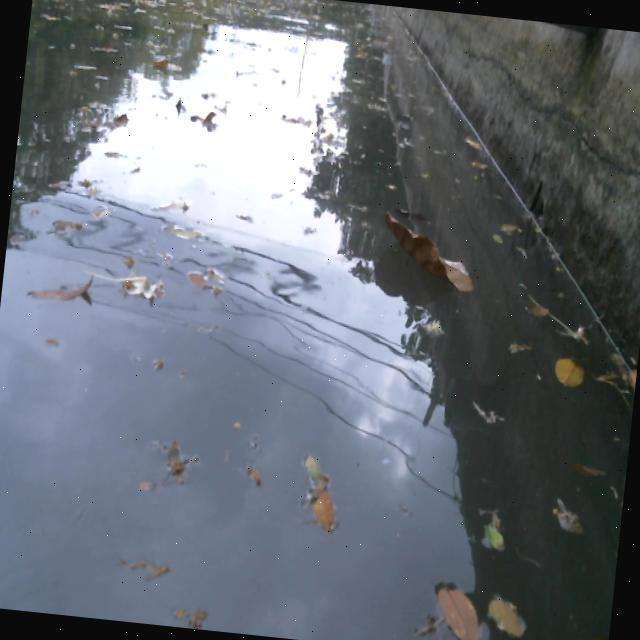Big-leaf: (375, 206, 483, 297)
Small-leaf: (428, 582, 492, 640), (23, 266, 98, 307), (483, 586, 535, 640), (159, 435, 199, 490), (114, 263, 167, 302), (549, 348, 590, 390), (309, 483, 344, 532), (542, 504, 589, 536), (157, 217, 208, 245), (146, 192, 192, 216), (479, 517, 508, 555), (298, 448, 326, 486), (42, 214, 85, 237), (275, 106, 316, 130), (239, 461, 270, 491), (186, 105, 220, 128), (572, 459, 607, 480), (523, 300, 552, 323), (183, 268, 211, 290), (463, 127, 483, 154), (504, 338, 532, 357), (495, 219, 523, 236), (583, 627, 609, 640), (487, 228, 505, 245)
